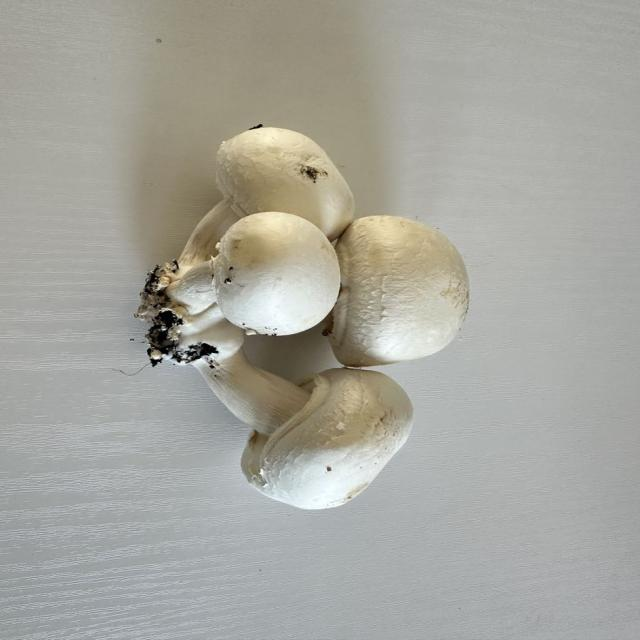champignon mushrooms: (139, 267, 412, 508), (242, 369, 413, 508), (329, 216, 468, 366), (214, 212, 339, 335), (217, 128, 353, 240)
